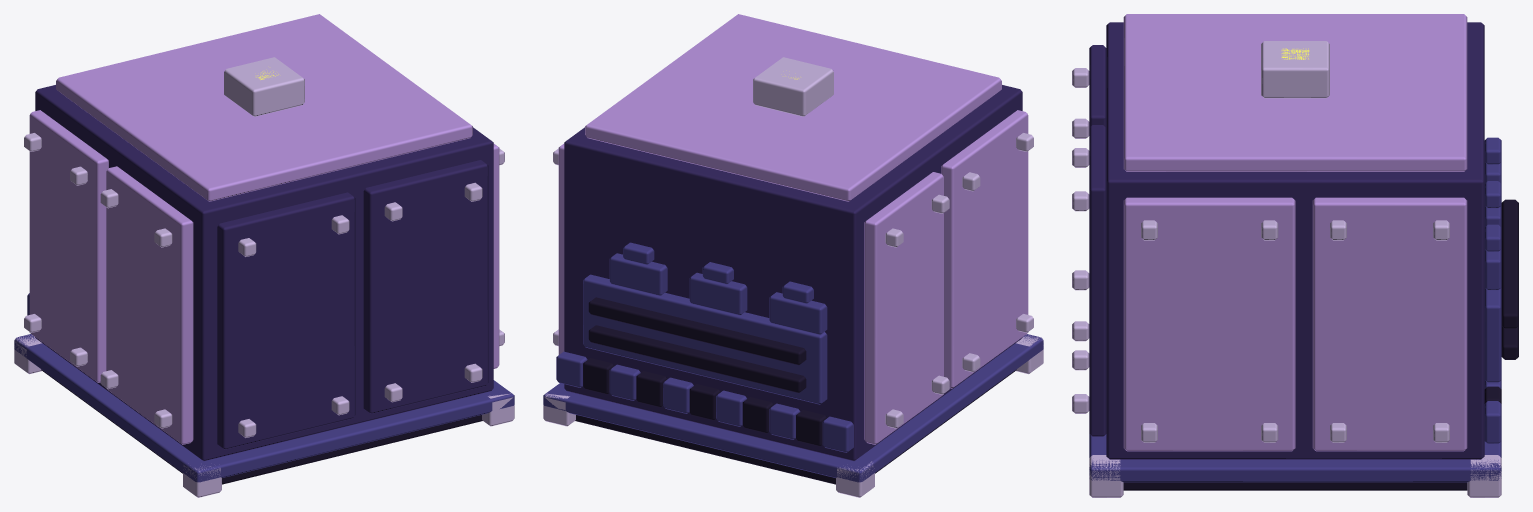
The model's file is magazine.ballistic.lg.glb.
3 renders of one model, left to right at view 1: azimuth 30°, elevation 25°; view 2: azimuth 150°, elevation 25°; view 3: azimuth 270°, elevation 25°, orthographic. The views are drawn at different scales.
Visible parts, largest first — view 1: magazine.ballistic.lg; view 2: magazine.ballistic.lg; view 3: magazine.ballistic.lg.
Boxes of the visible parts, x1,y1,x2,y2 form: magazine.ballistic.lg: (14, 14, 514, 497); magazine.ballistic.lg: (543, 14, 1043, 497); magazine.ballistic.lg: (1072, 14, 1518, 497).
Bounding box in the file's own units: 1.62 × 1.44 × 1.62.
